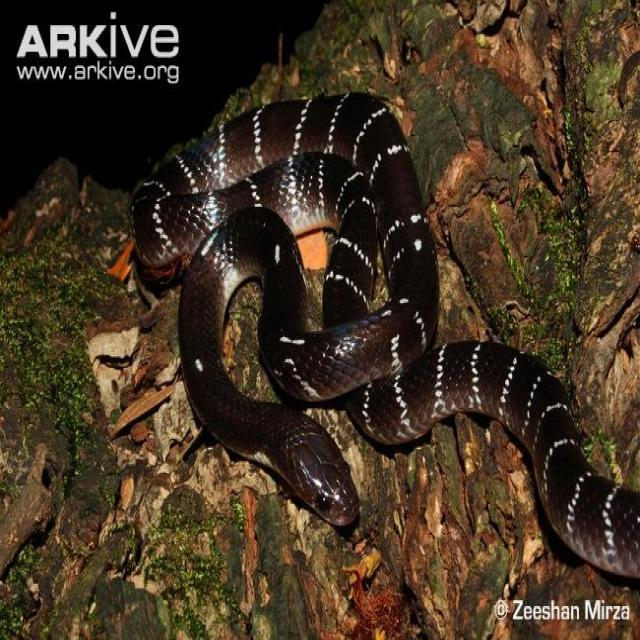Snake: (128, 88, 639, 580)
